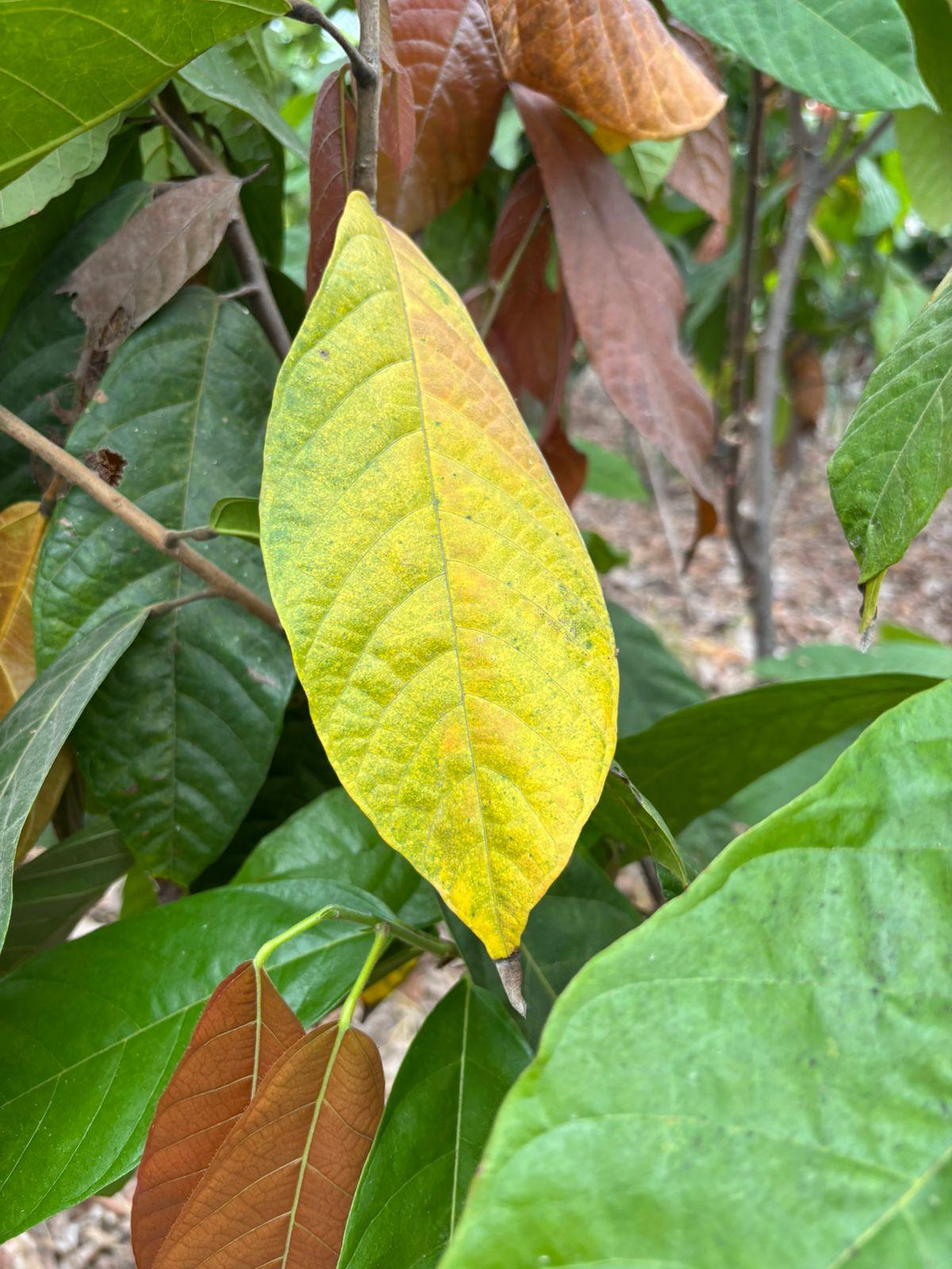Fosforo: (260, 192, 618, 961)
